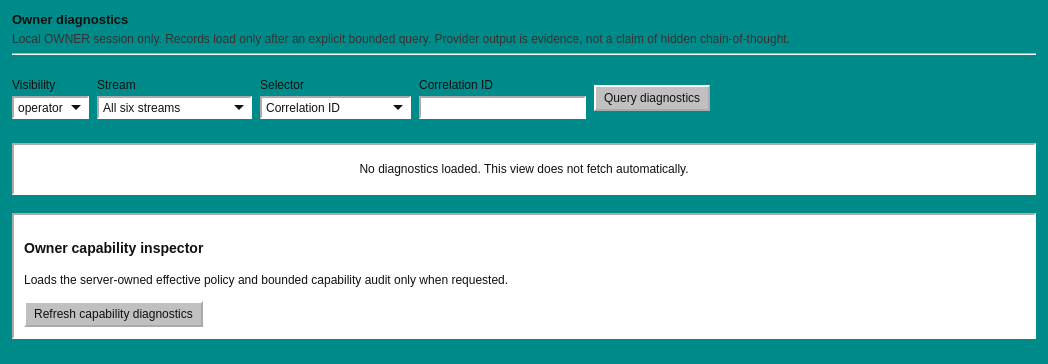
Test case: owner diagnostic dashboard › starts empty and uses the owner session rather than a diagnostic bearer token
This screenshot has width=1048, height=364.
Click the button "Query diagnostics" at (652, 98), box [594,85,710,111]
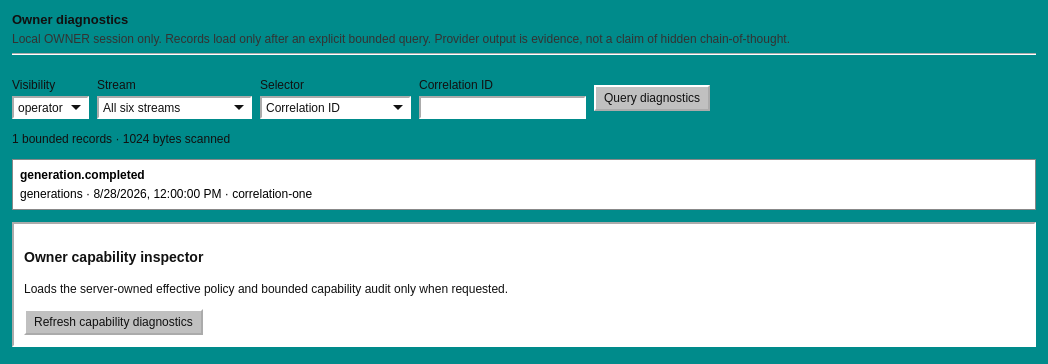
Result: the button "generation.completed" is shown at [12,160,1036,210]
